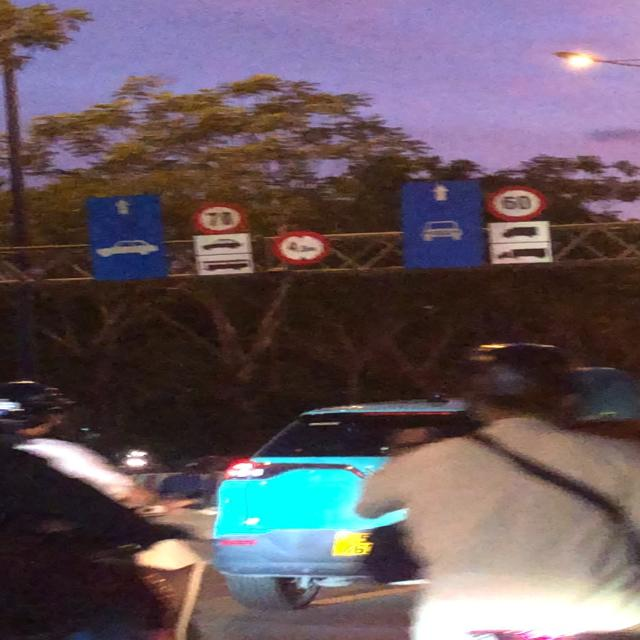Bien bao han che chieu cao: (270, 228, 332, 271)
Bien bao toc do toi da cho phep: (481, 181, 552, 224), (186, 199, 256, 239)
